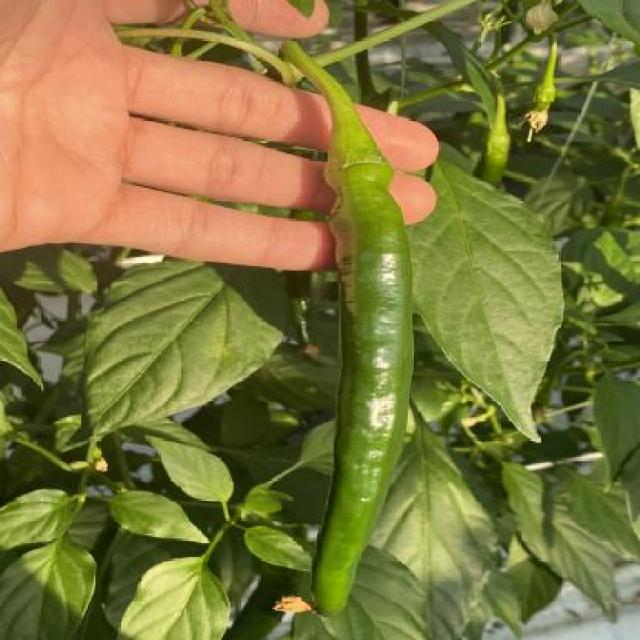green chilli: (311, 163, 414, 617)
